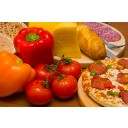pepperonipizza: (84, 57, 128, 106)
